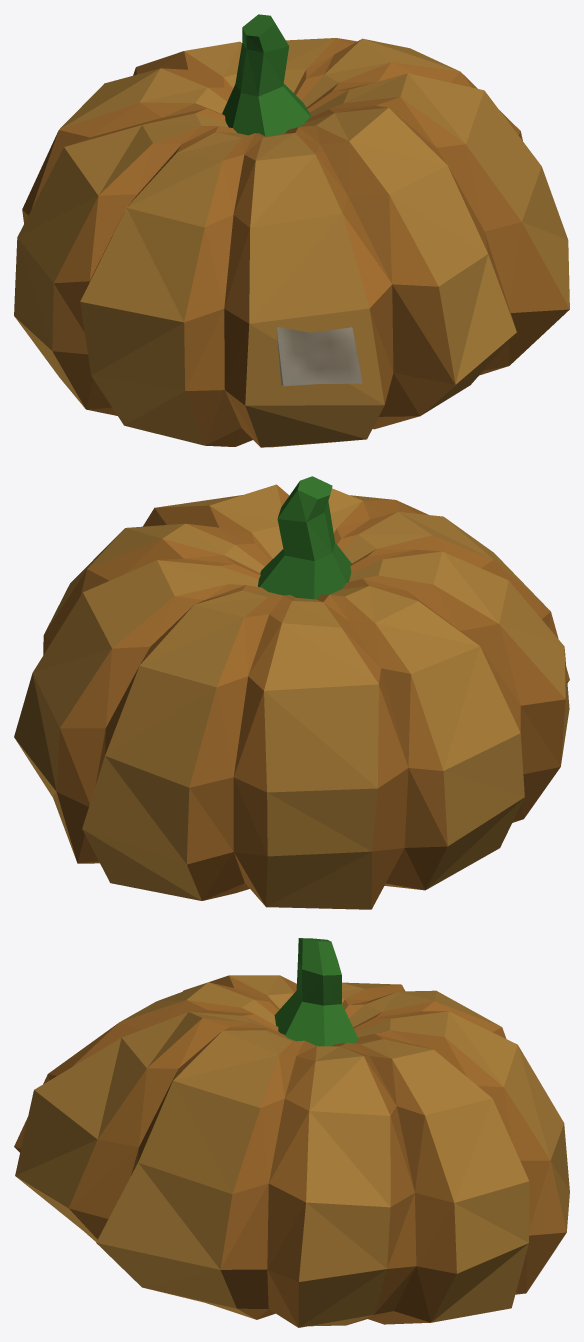
The model's file is pumpkin-2.glb.
The picture shows the model from 3 angles, top to bottom: view 1: azimuth 30°, elevation 25°; view 2: azimuth 150°, elevation 25°; view 3: azimuth 270°, elevation 25°; orthographic projection. The views are drawn at different scales.
Visible parts, largest first — view 1: SM_Prop_Pumpkin_Plastic_02; view 2: SM_Prop_Pumpkin_Plastic_02; view 3: SM_Prop_Pumpkin_Plastic_02.
Boxes of the visible parts, x1,y1,x2,y2 form: SM_Prop_Pumpkin_Plastic_02: [14, 14, 569, 447]; SM_Prop_Pumpkin_Plastic_02: [14, 476, 569, 909]; SM_Prop_Pumpkin_Plastic_02: [14, 938, 569, 1327].
Size of the model in its own units: 59.92 by 44.16 by 65.12.
Materials: 1 (1 with a texture image).
